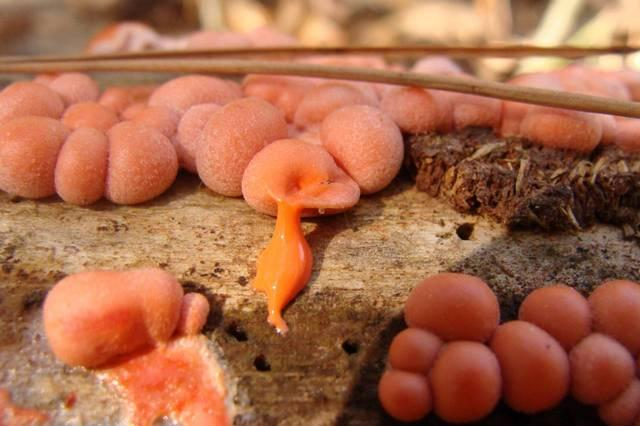Non-edible Mushroom: (0, 43, 634, 222), (376, 270, 638, 423), (41, 265, 235, 425), (240, 137, 360, 335), (41, 265, 184, 368), (318, 103, 404, 194), (402, 270, 500, 341)
